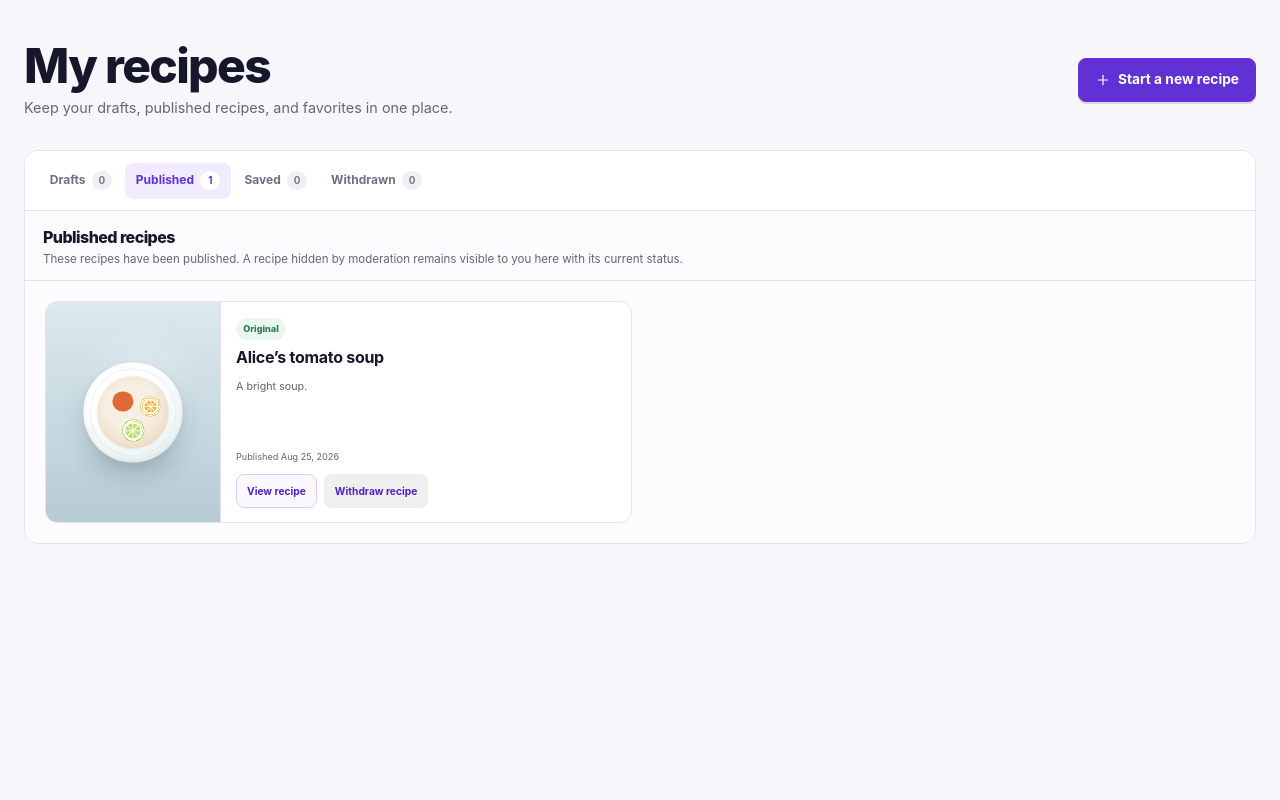
Test: cook profile and private recipe libraries › moves a withdrawn recipe out of Published and keeps the success announcement
The width and height of the screenshot is (1280, 800).
Expected: the link "Alice’s tomato soup" is shown, [236,348,384,368]
Click the button with aria-label "Withdraw Alice’s tomato soup": x=376, y=492 [324,474,428,508]
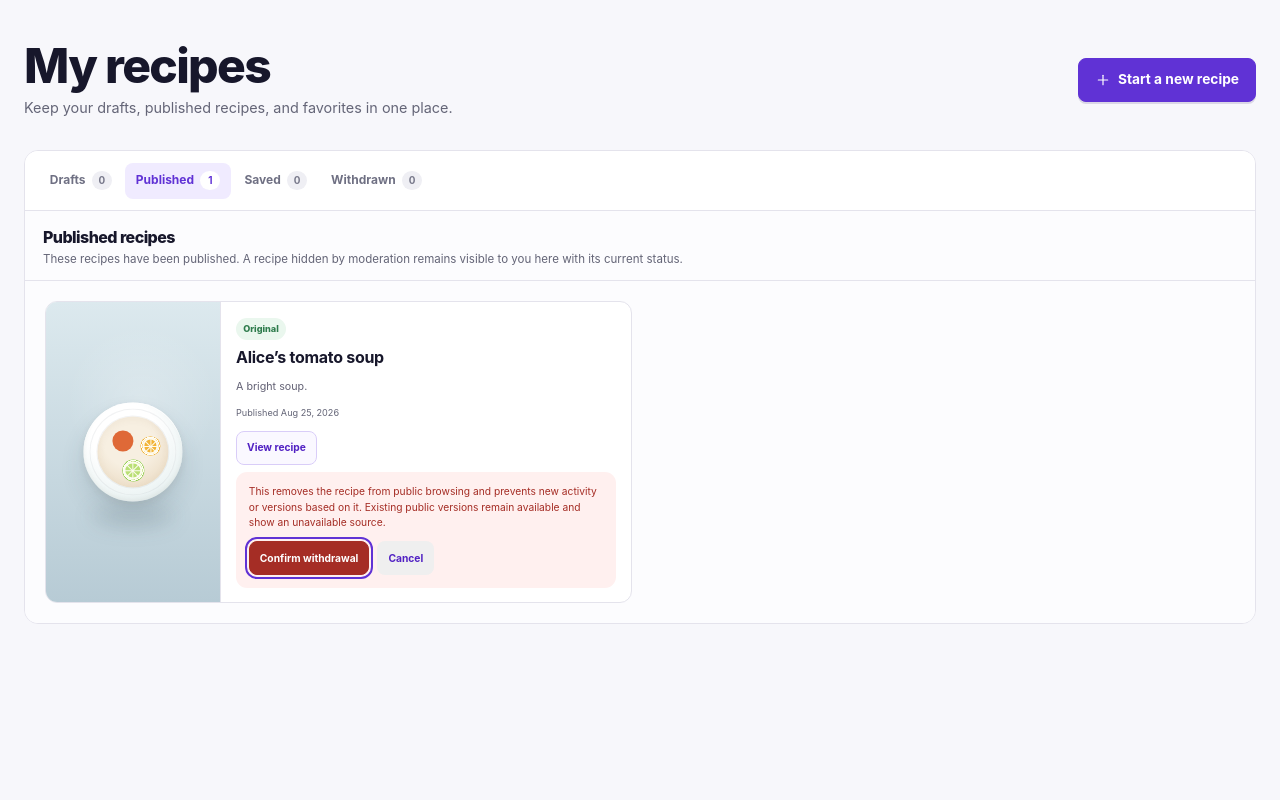
Result: the text "existing public versions remain available" is shown at [249,485,597,528]
Click the button with aria-label "Confirm withdrawal of Alice’s tomato soup": x=309, y=558 [249,541,369,575]
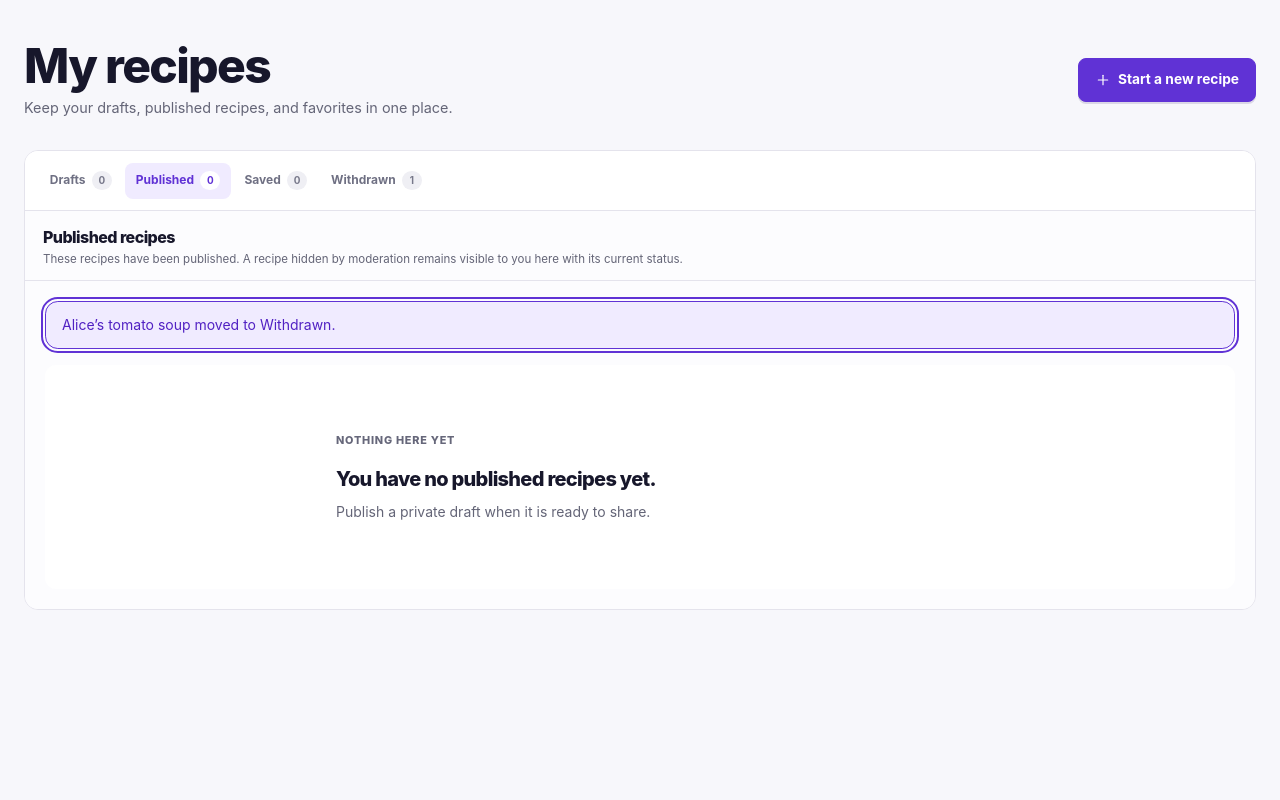
Result: the message reads "Alice’s tomato soup moved to Withdrawn." at [62,316,335,333]
Result: the heading "You have no published recipes yet." is shown at [336,467,656,491]
